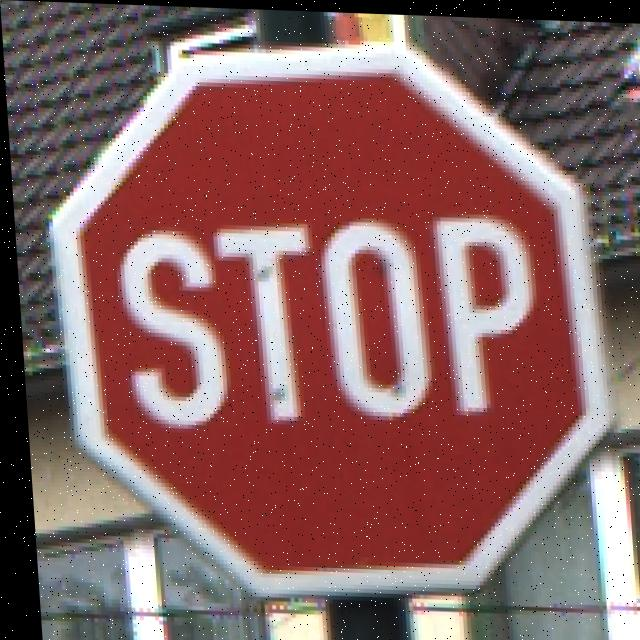stop: (42, 55, 637, 608)
